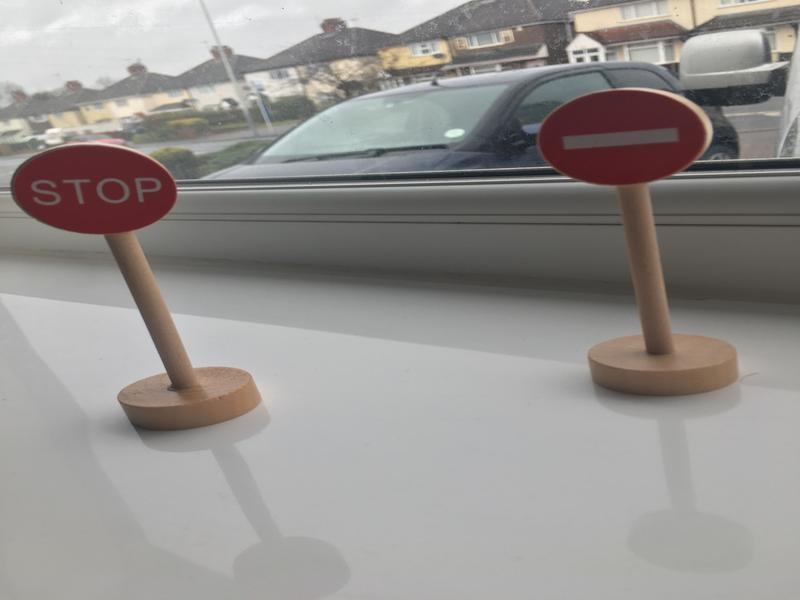Traffic_Sign_No_Entry: (537, 93, 707, 185)
Traffic_Sign_Stop: (11, 145, 177, 239)
